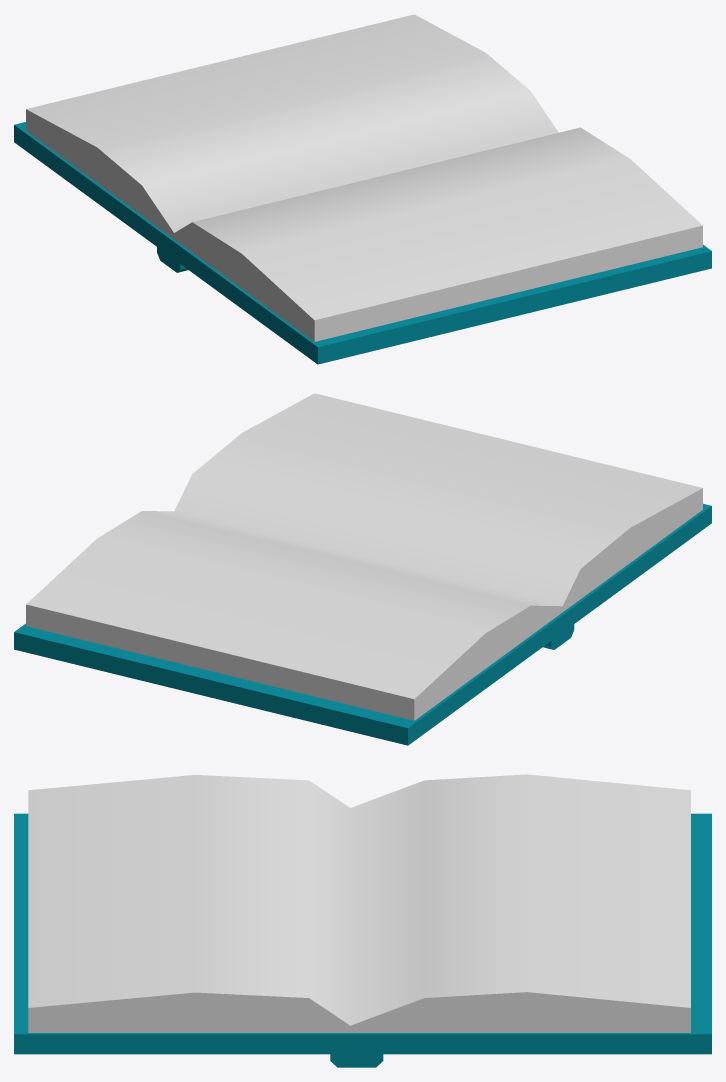
File: BookModel.fbx
3 renders of one model, top to bottom at view 1: azimuth 30°, elevation 25°; view 2: azimuth 150°, elevation 25°; view 3: azimuth 270°, elevation 25°, orthographic. The views are drawn at different scales.
Parts seen in each view (by area): view 1: Book; view 2: Book; view 3: Book.
Part boxes in pixels (box(x1,y1,x2,y2)): Book: box(14, 14, 711, 364); Book: box(14, 393, 711, 745); Book: box(14, 774, 711, 1067).
Bounding box in the file's own units: 1.42 × 0.2217 × 1.9.
